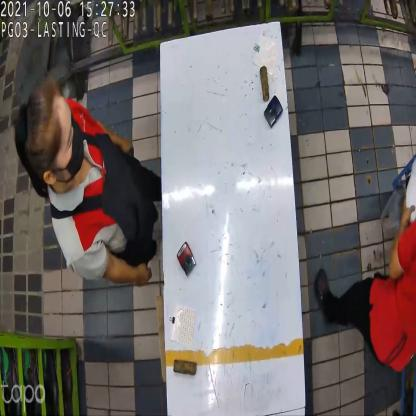stamp: (174, 244, 197, 277), (264, 95, 284, 128)
